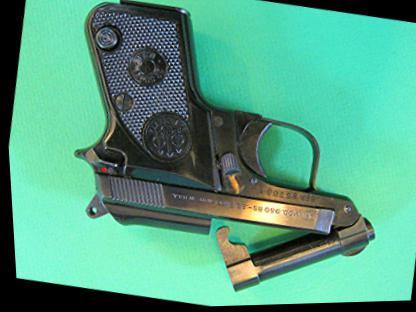pistol: (37, 0, 410, 310)
